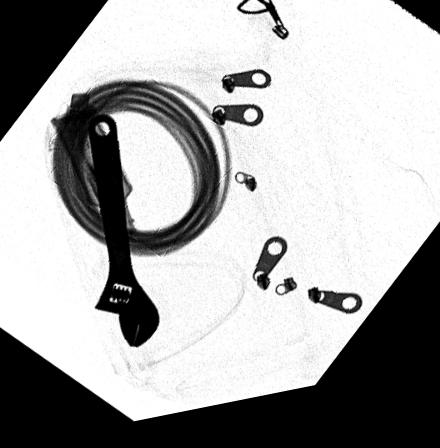Wrench: (86, 112, 159, 352)
